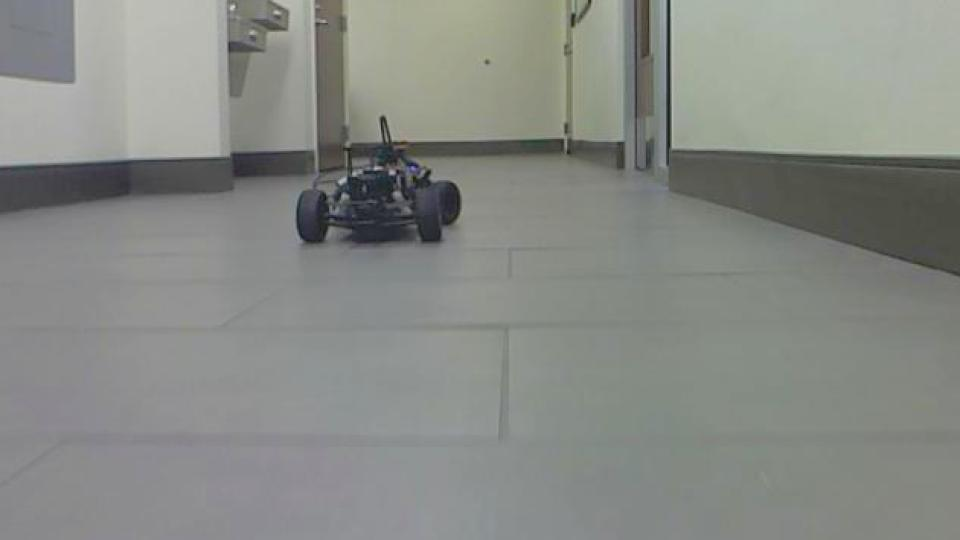car: (291, 113, 463, 247)
